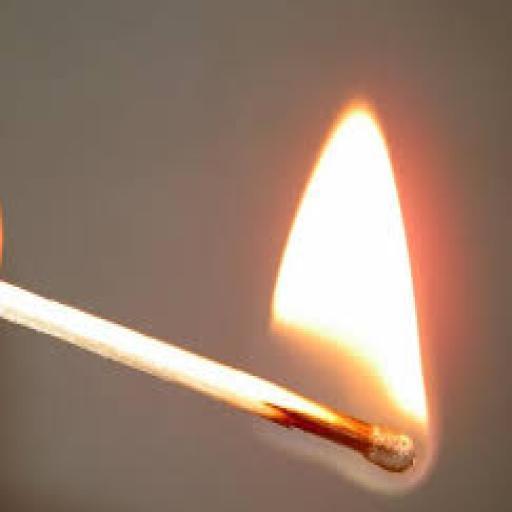fire: (223, 74, 480, 448)
